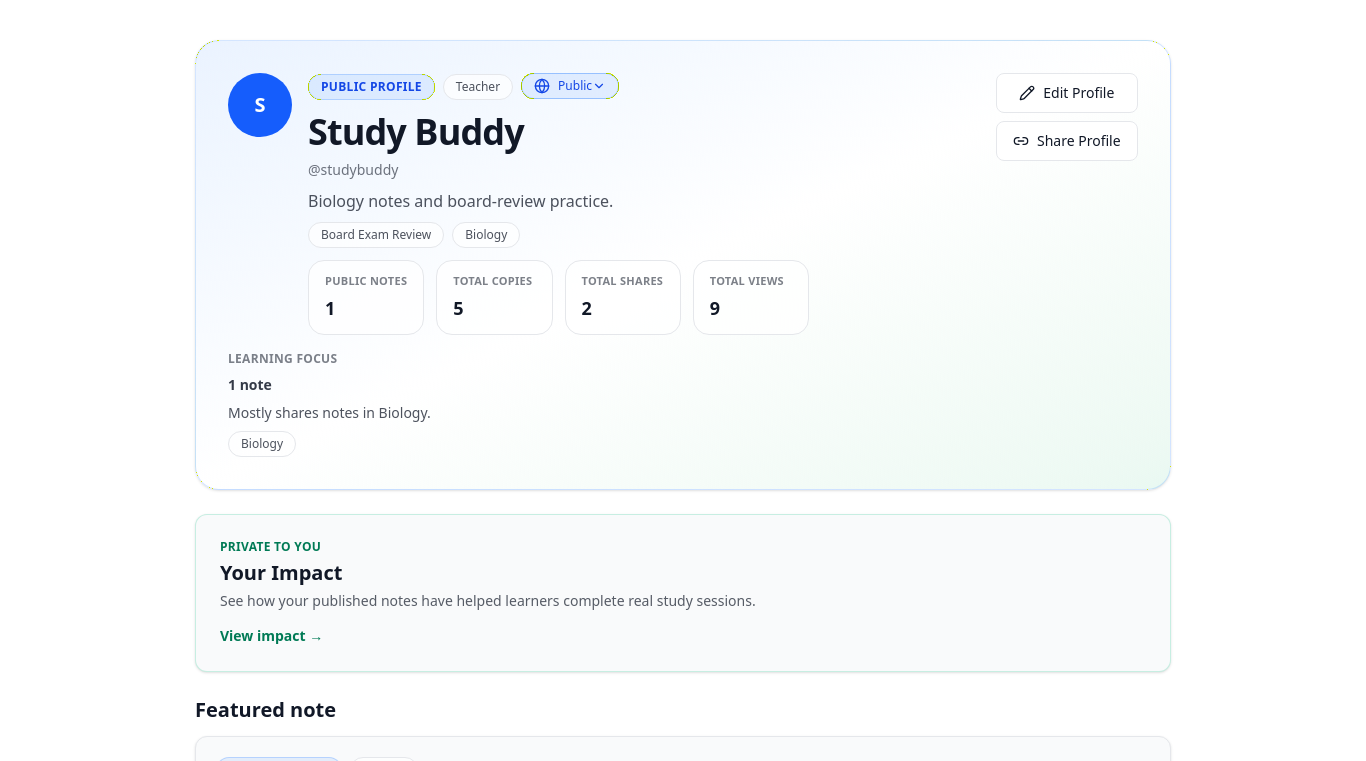
Test case: PublicProfilePageClient › shows owner-only profile controls while keeping note cards action-free
This screenshot has width=1366, height=761.
Expected: the button "Public" is shown, [521,73,619,99]
Expected: the text "Biology notes and board-review practice." is shown, [308,190,613,212]
Click the button "Share Profile" at point(1067, 141), box [996,121,1138,161]
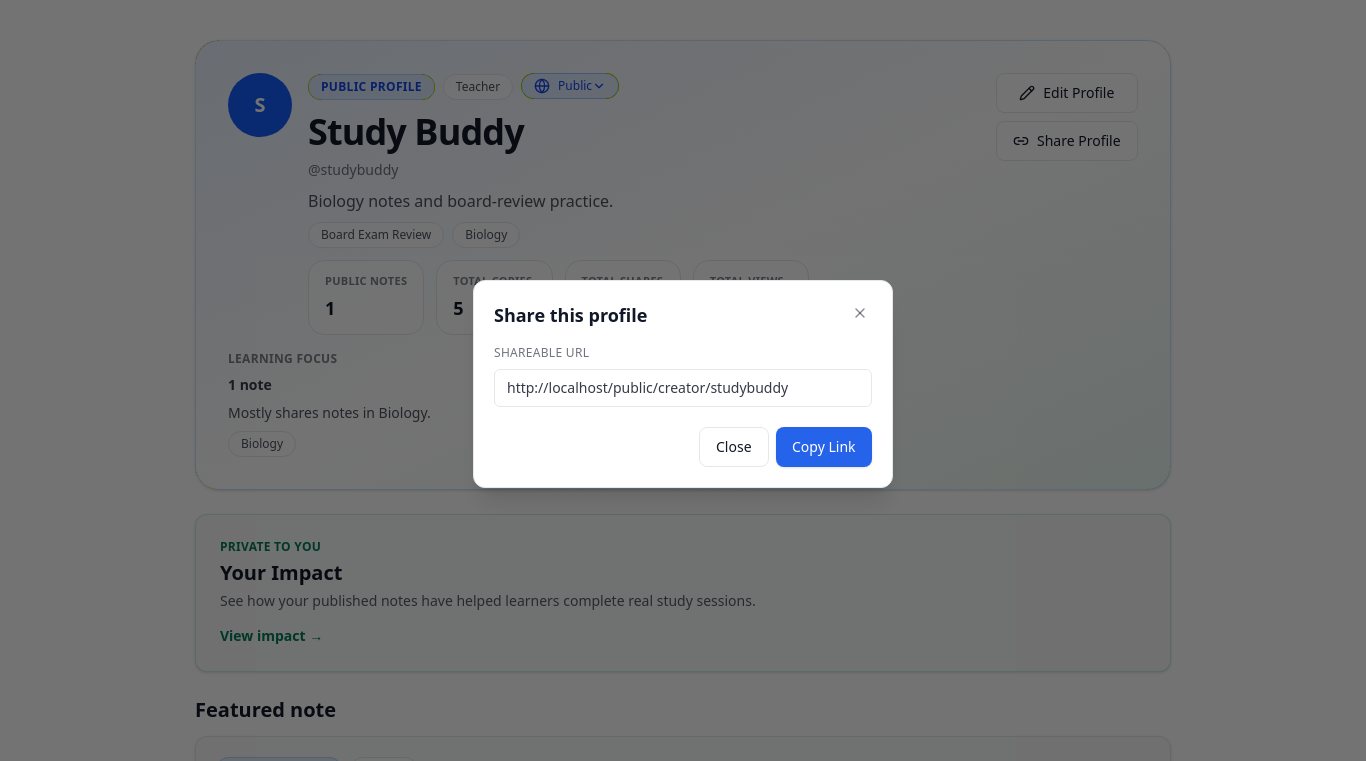
Now the text "http://localhost/public/creator/studybuddy" is shown, box [494,369,872,407]
Click the button "Copy Link" at point(824, 447), box [776,427,872,467]
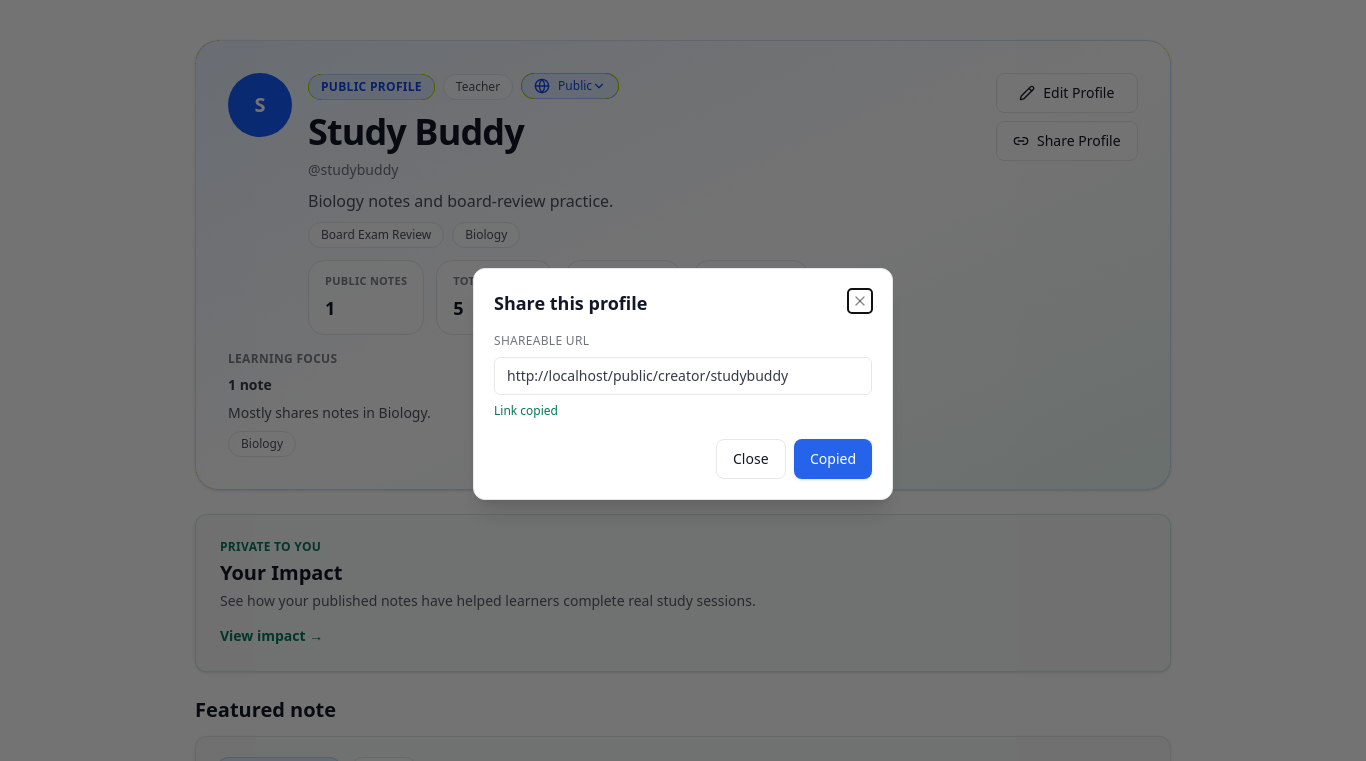
Now the text "Link copied" is shown, box [494,402,558,419]
Click the button named "Close" at point(860, 301), box [848,289,872,313]
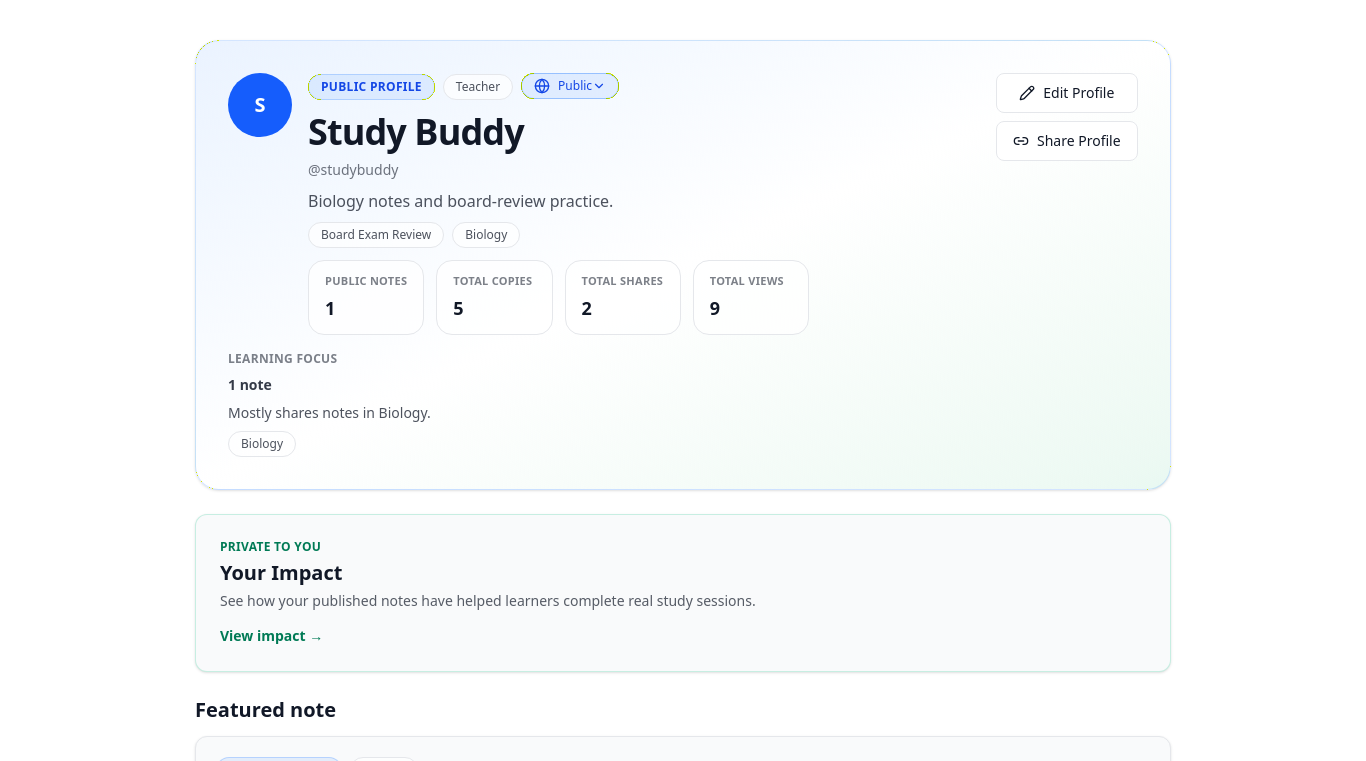
Now the heading "Share this profile" is gone
Click the button "Public" at point(570, 86), box [521,73,619,99]
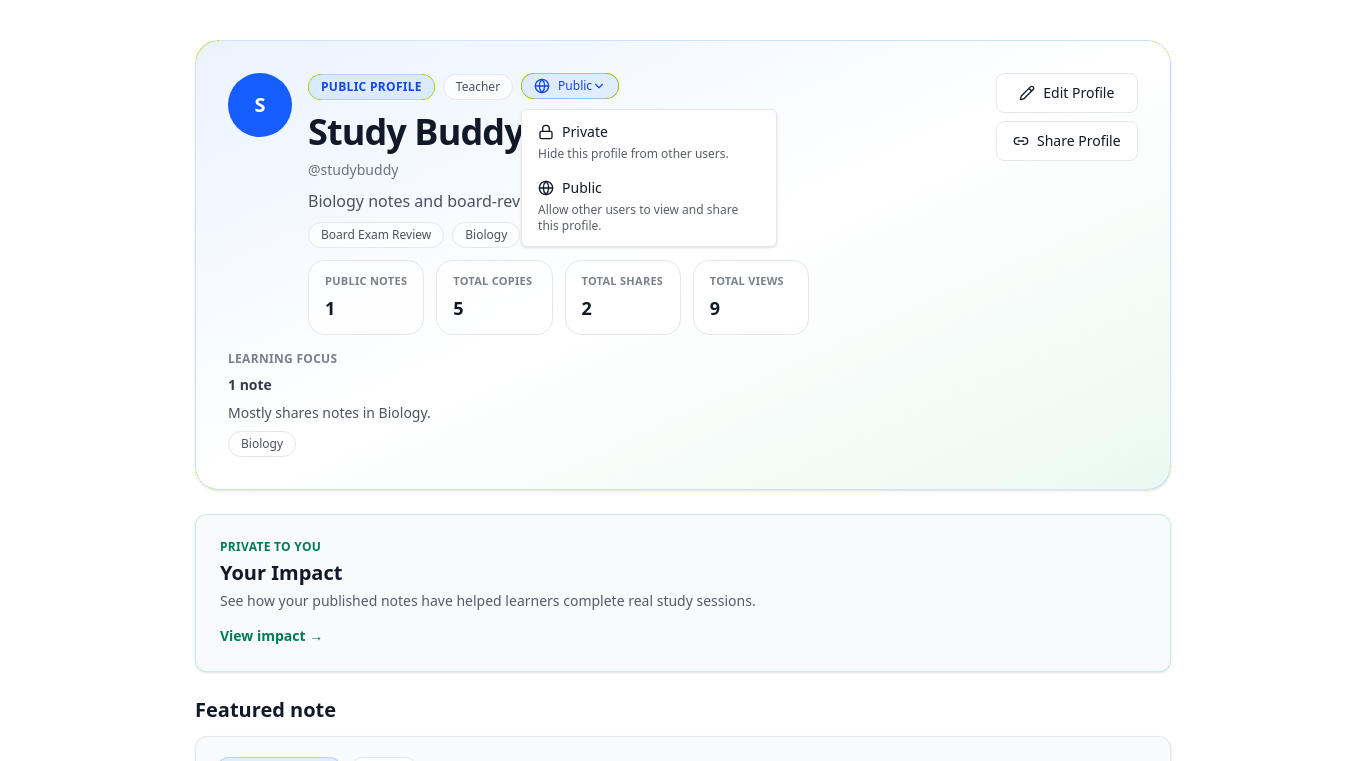
Now the text "Hide this profile from other users." is shown, box [538,146,760,162]
Click the button "Private Hide this profile from other users." at point(649, 142), box [526,114,772,170]
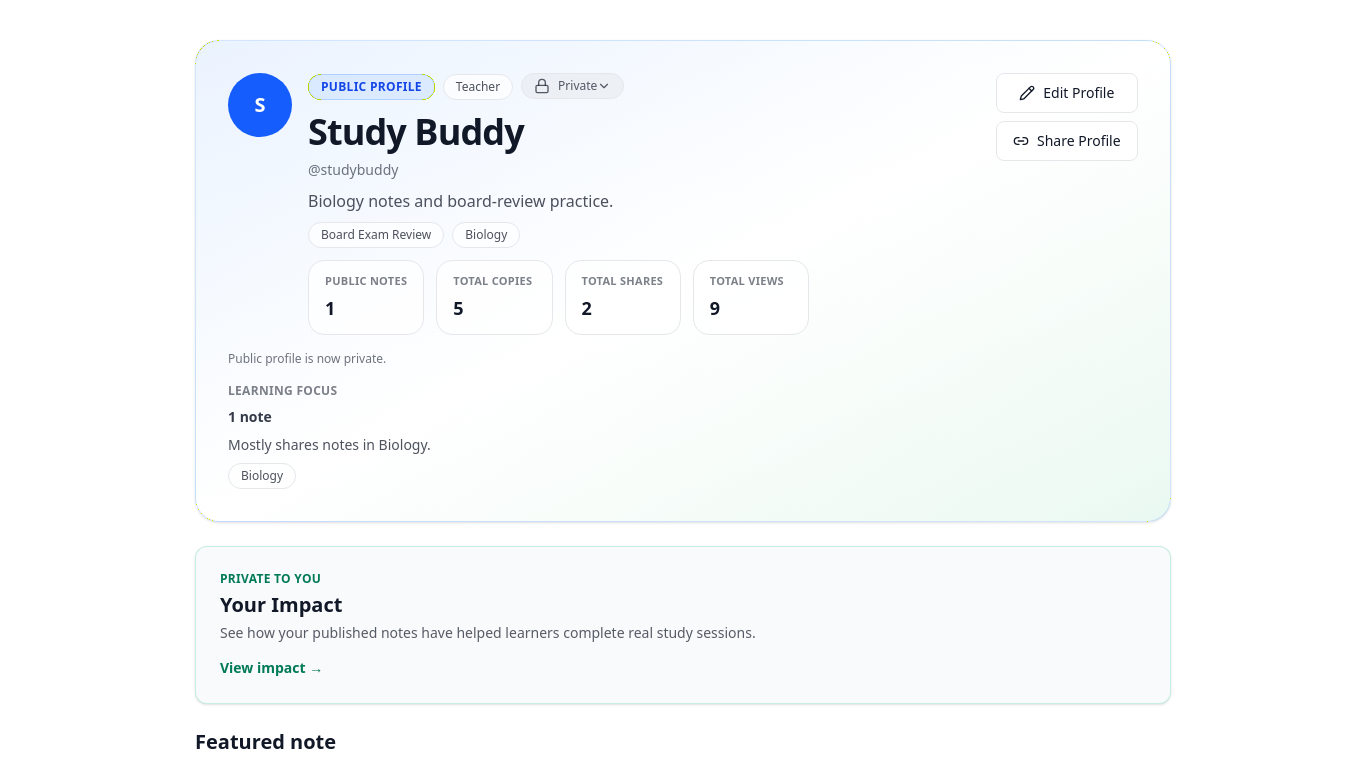
Now the text "Public profile is now private." is shown, box [228,350,386,366]
Now the button "Private" is shown, box [521,73,624,99]
